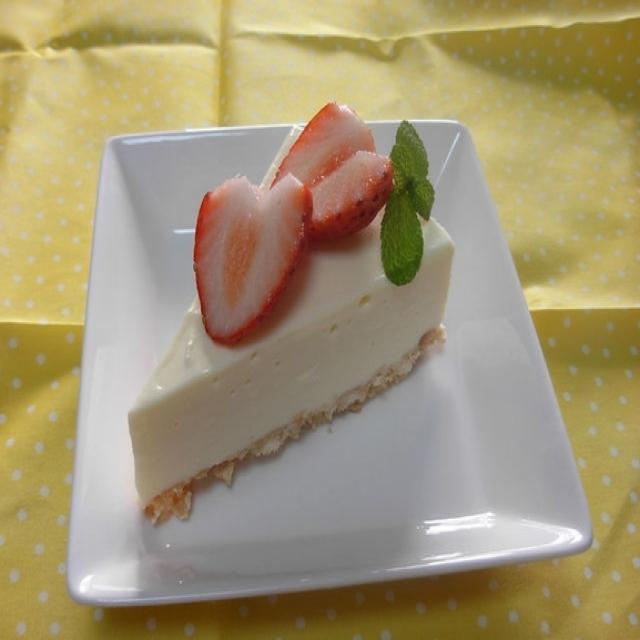Rare cheese cake: (105, 96, 527, 547)
